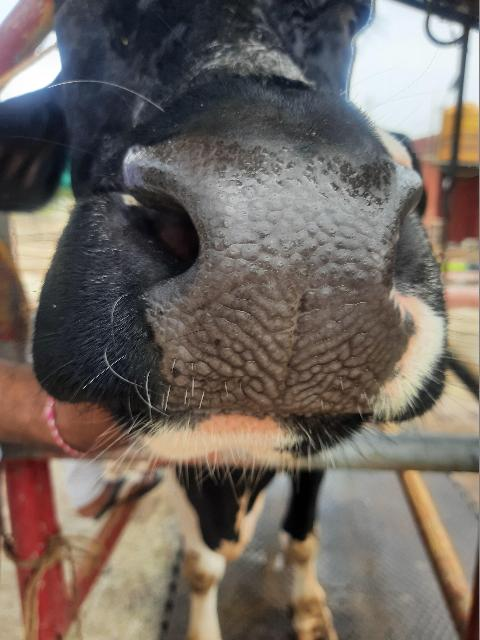Muzzle: (138, 148, 398, 404)
